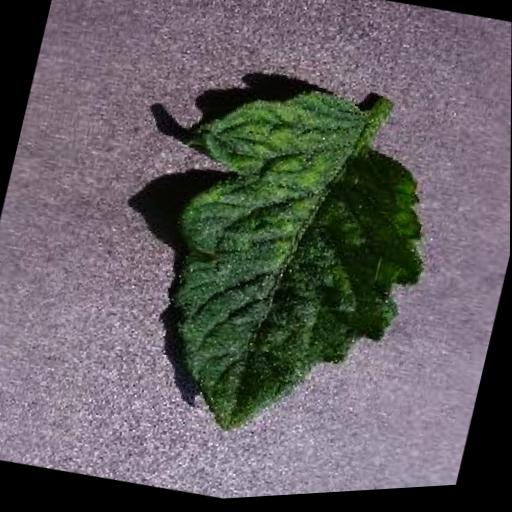Mosaic Virus: (115, 57, 466, 476)
